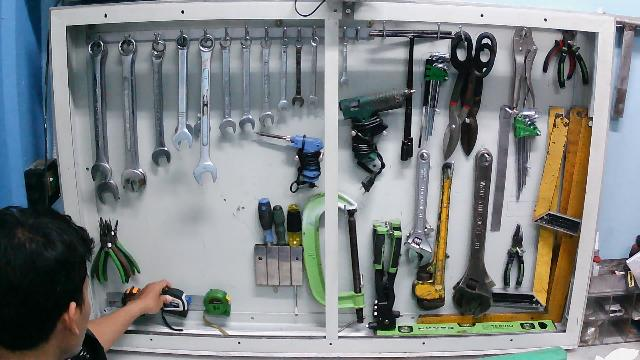meteran: (150, 278, 197, 333)
